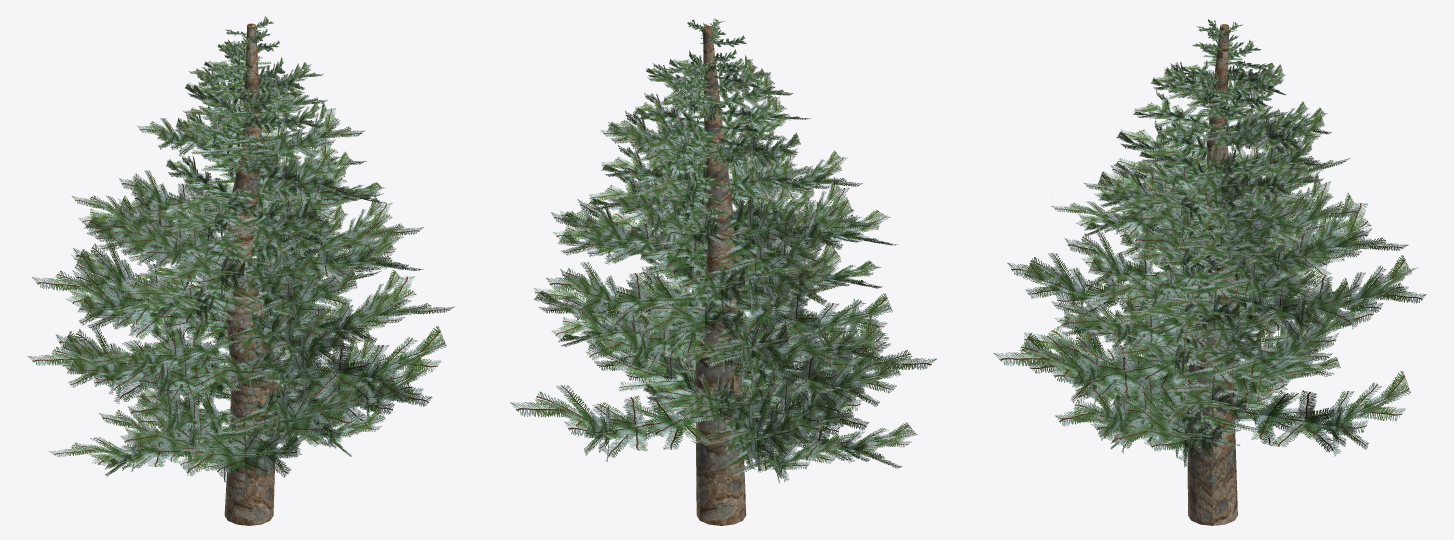
Rendered from pine-near.glb.
3 renders of one model, left to right at view 1: azimuth 30°, elevation 25°; view 2: azimuth 150°, elevation 25°; view 3: azimuth 270°, elevation 25°, orthographic.
Parts seen in each view (by area): view 1: stk_pineBranch_a.png__, stktex_treeBark_a.png__; view 2: stk_pineBranch_a.png__, stktex_treeBark_a.png__; view 3: stk_pineBranch_a.png__, stktex_treeBark_a.png__.
Boxes of the visible parts, x1,y1,x2,y2 form: stk_pineBranch_a.png__: (27,16,455,487); stktex_treeBark_a.png__: (220,23,277,525); stk_pineBranch_a.png__: (510,18,936,482); stktex_treeBark_a.png__: (695,26,746,525); stk_pineBranch_a.png__: (993,19,1426,467); stktex_treeBark_a.png__: (1187,24,1240,525).
Size of the model in its own units: 13.68 by 16.2 by 13.52.
2 materials, 2 textured.
